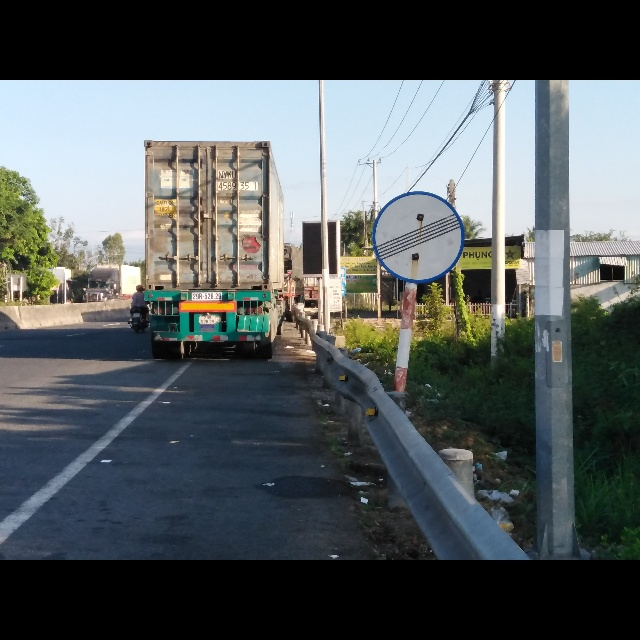Hết tất cả các lệnh cấm: (372, 190, 466, 288)
